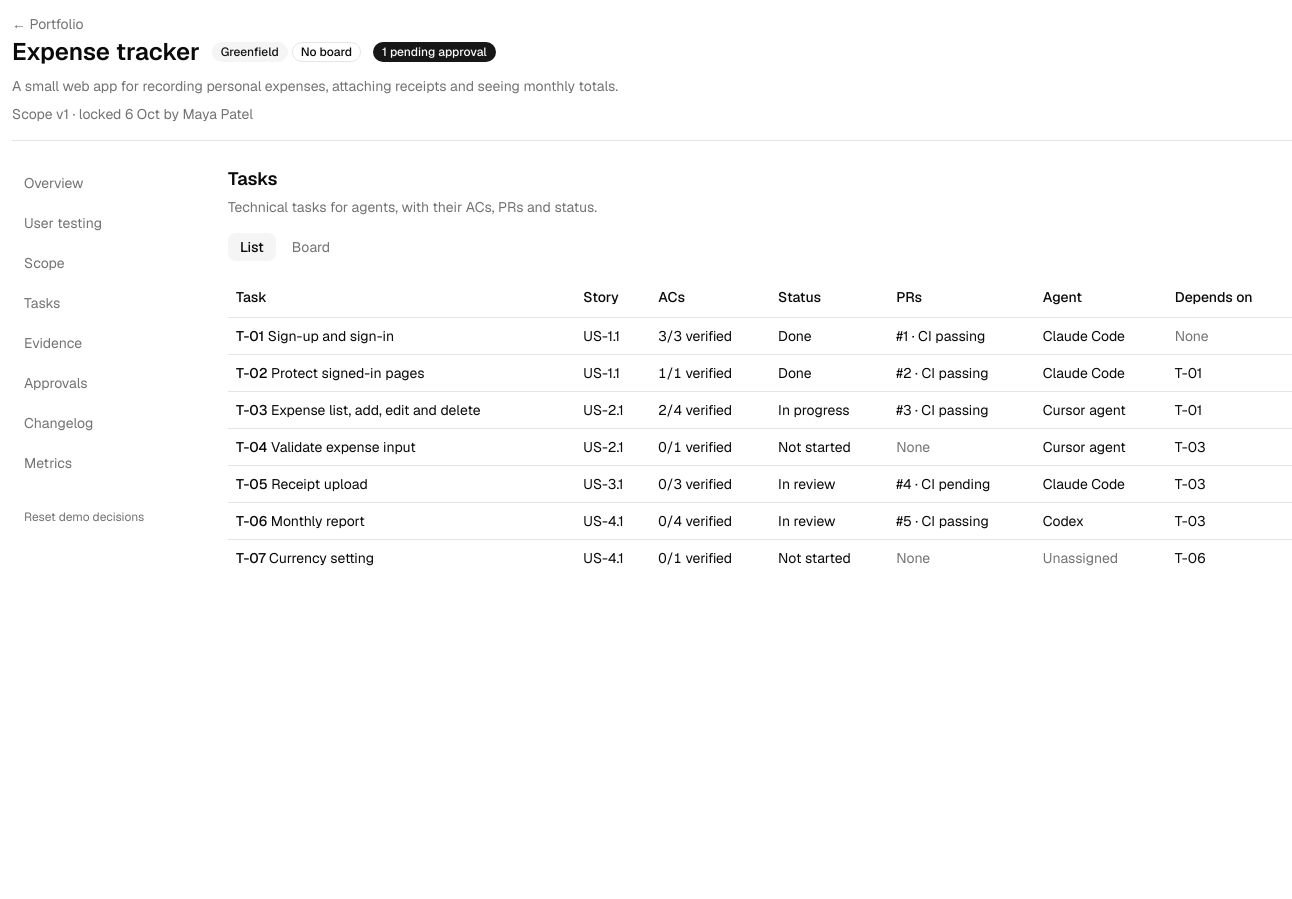
Test: TasksView › opens a task’s ticket with Copy as Markdown
Click the button "T-01 Sign-up and sign-in". click: (315, 336)
box: [236,326,394,346]
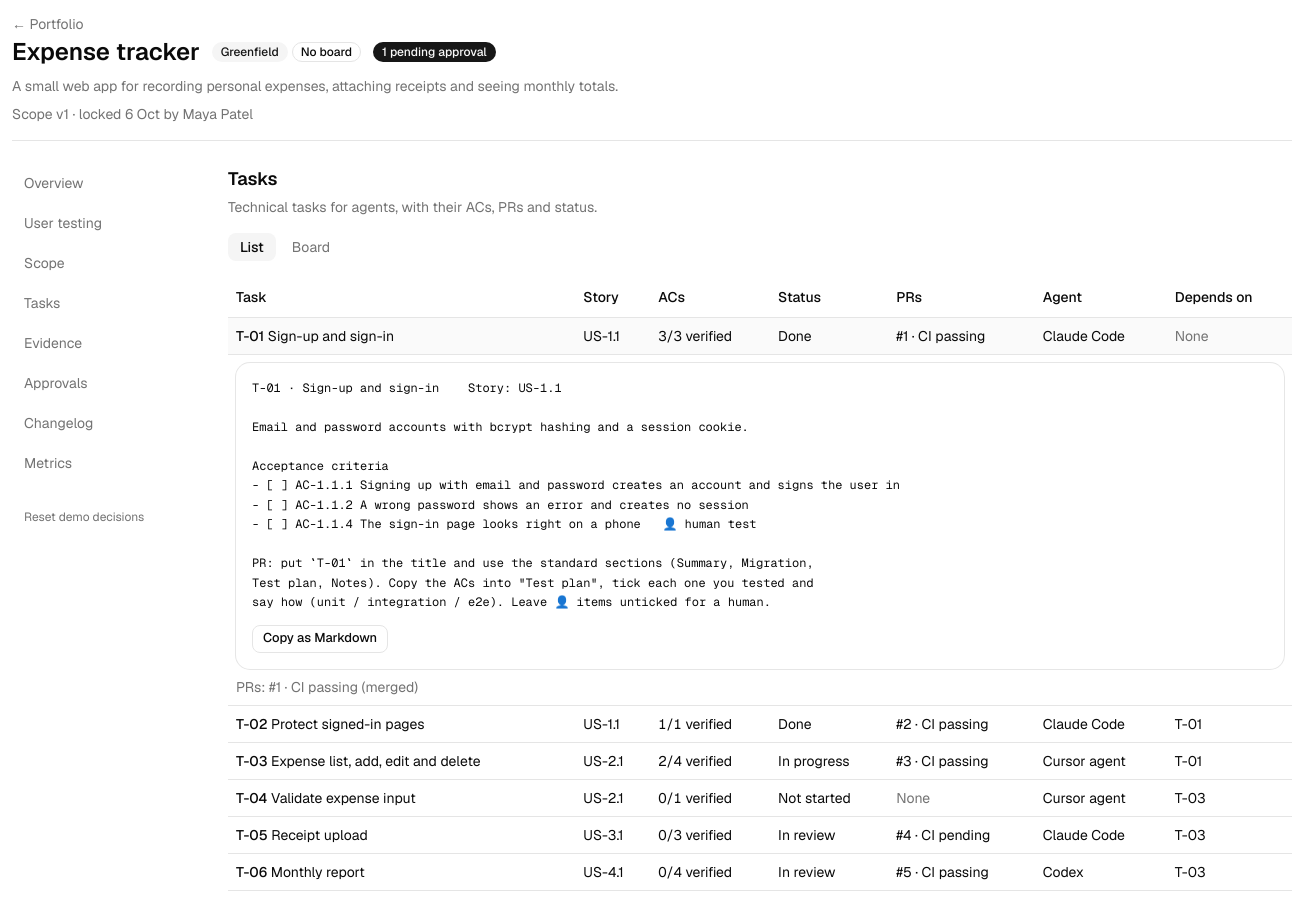
Result: the button with aria-label "Copy T-01 as Markdown" is shown at [252,624,388,652]
